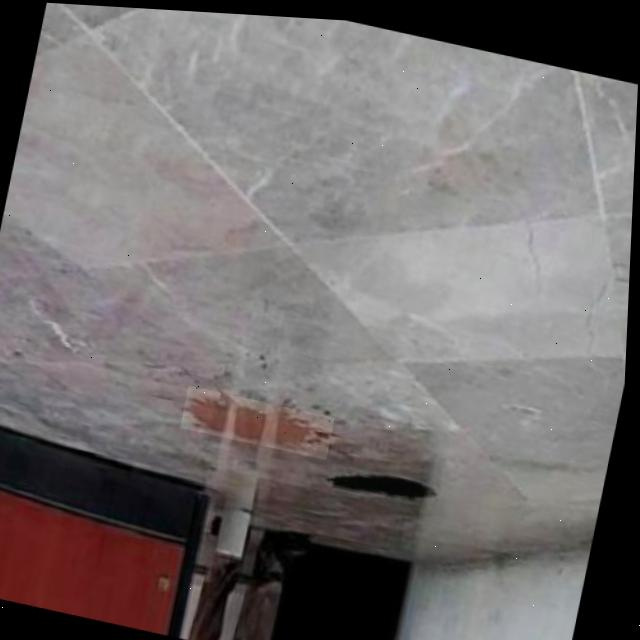spillage: (188, 390, 334, 444), (334, 470, 440, 493)
